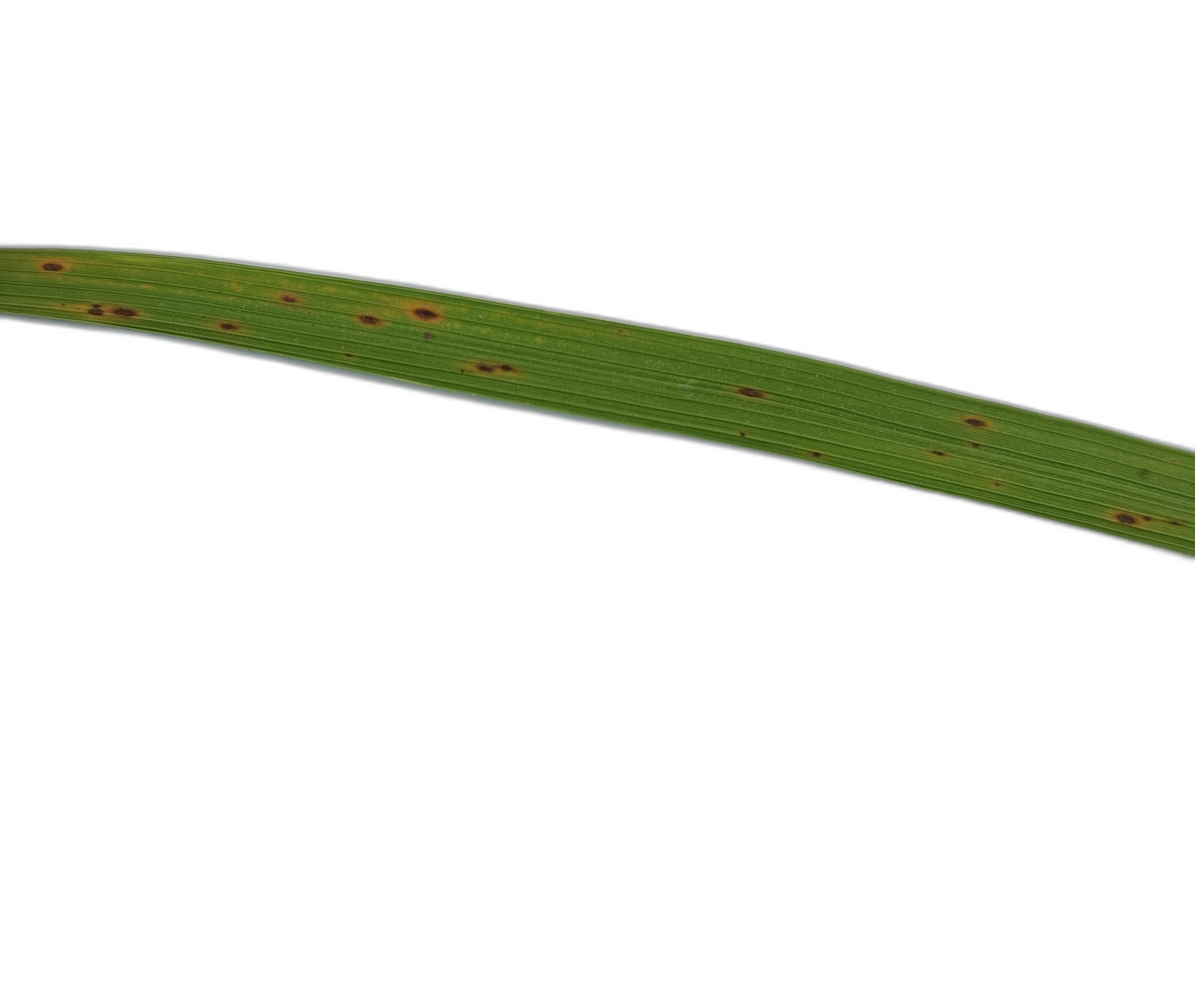LEAF: (0, 248, 1195, 557)
LEAF BLAST: (404, 300, 445, 324), (1108, 510, 1142, 527), (35, 258, 71, 273), (961, 414, 994, 428), (104, 306, 141, 318), (354, 313, 385, 327), (75, 305, 107, 317), (736, 386, 766, 398), (91, 304, 102, 308)
